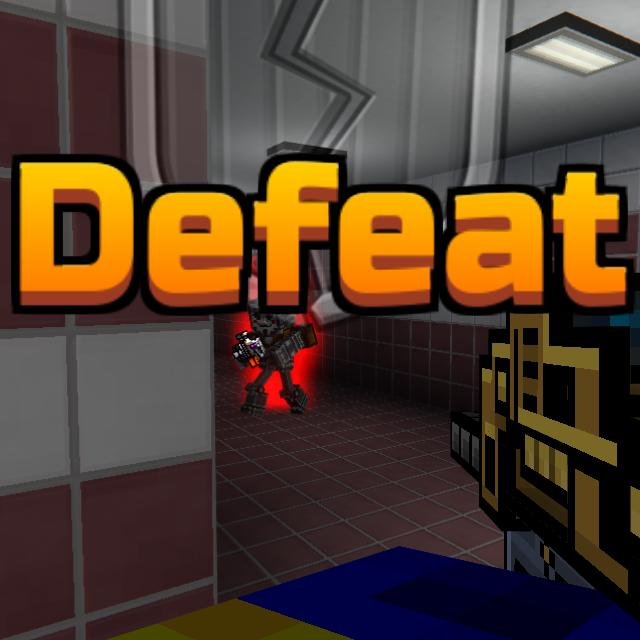Enemy: (233, 300, 318, 416)
